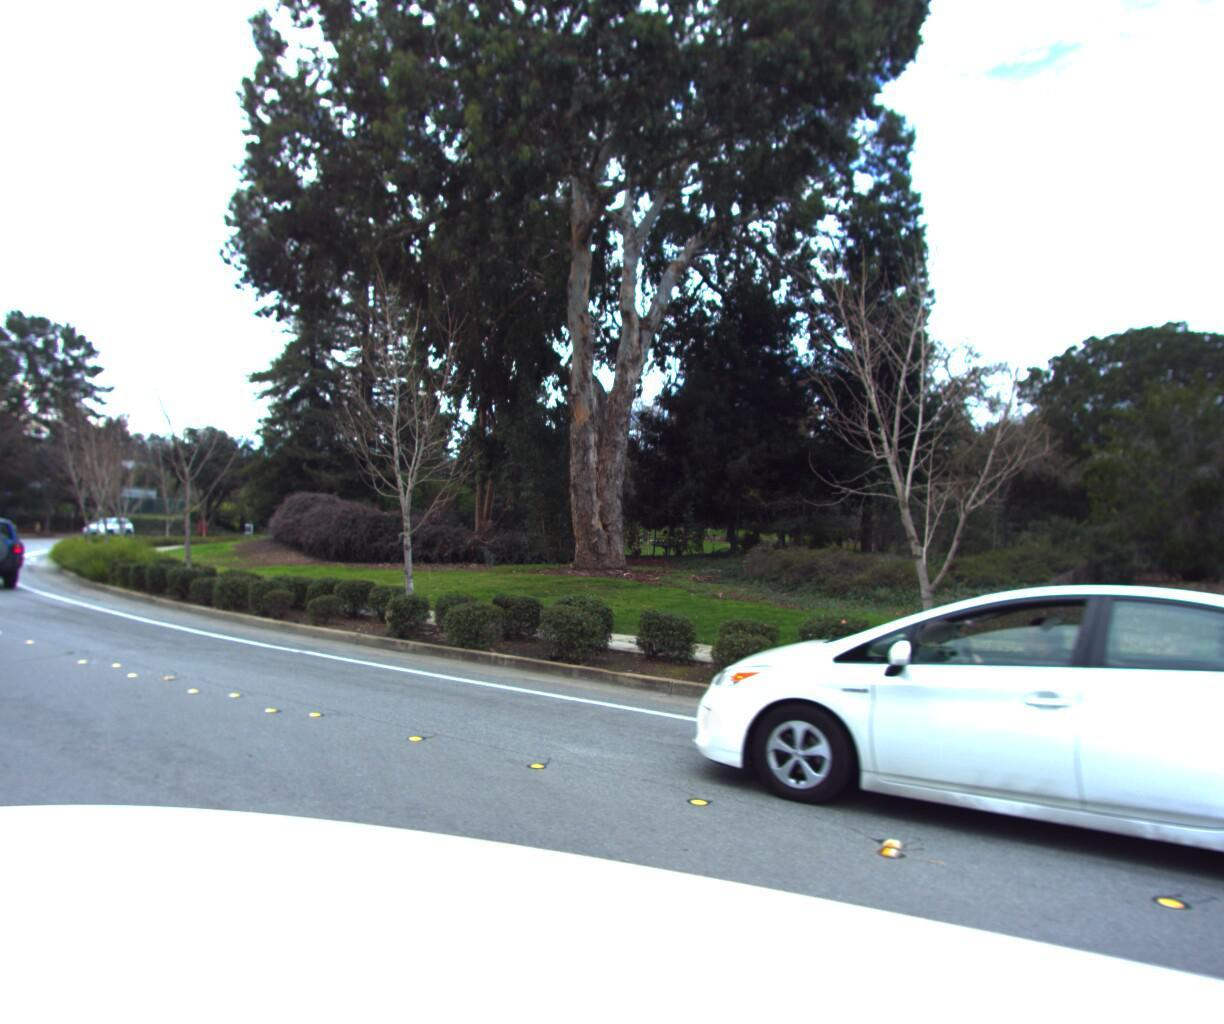car: (691, 553, 1224, 996), (0, 508, 28, 593), (81, 513, 137, 538)
